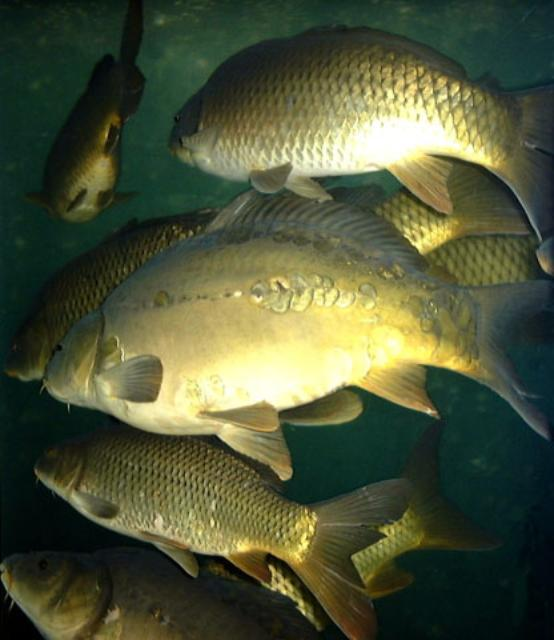Sirip Anal: (344, 346, 460, 419), (376, 146, 466, 230), (214, 528, 284, 590), (93, 114, 133, 162)
Sirip Dada: (102, 346, 172, 409), (77, 480, 133, 526)
Sirip Ekor: (287, 470, 418, 640), (460, 259, 554, 447), (500, 66, 554, 260), (104, 0, 162, 114)
Sirip Perut: (201, 381, 312, 484), (140, 514, 216, 588), (242, 157, 333, 217), (56, 177, 120, 223)
Sirip Punggung: (198, 175, 455, 289)
